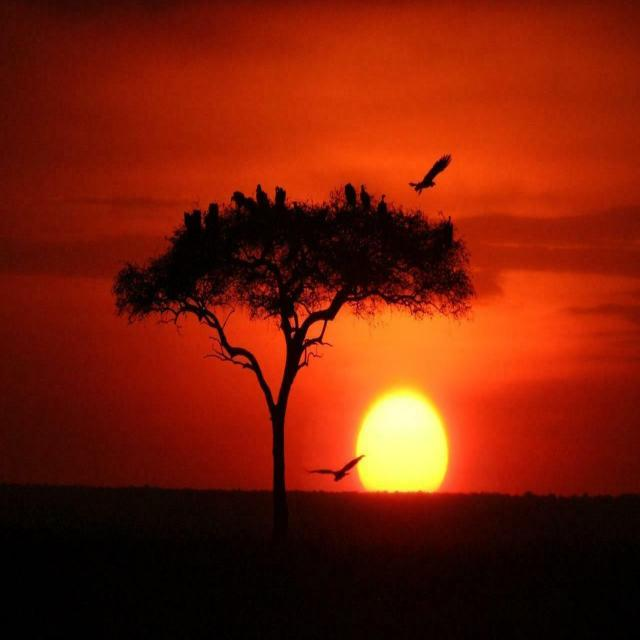Acacia: (99, 162, 449, 480)
